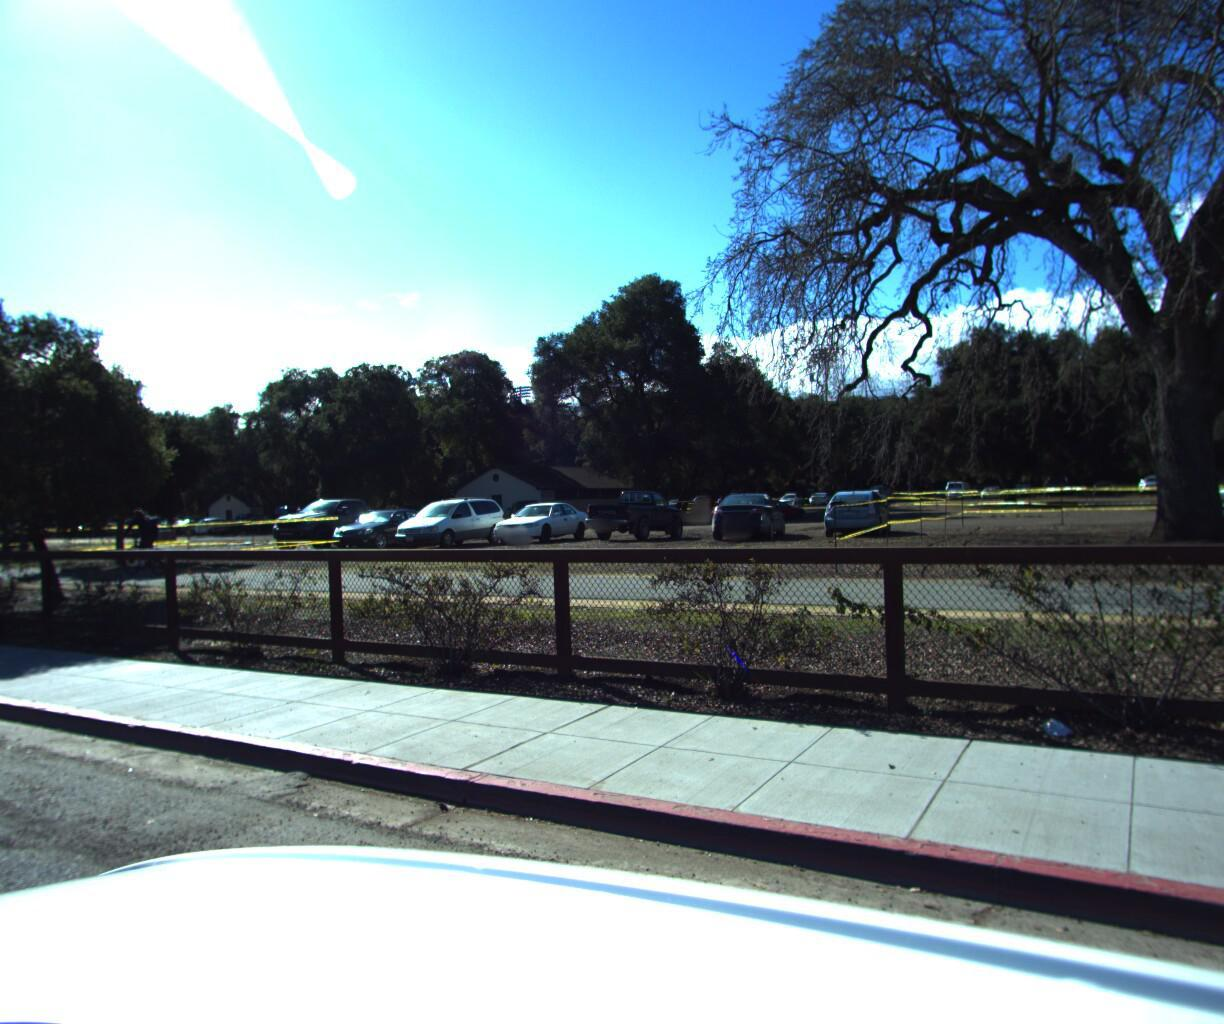bicycle: (111, 500, 186, 573)
